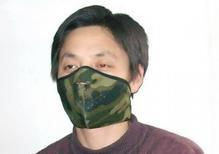OK: (54, 51, 126, 123)
